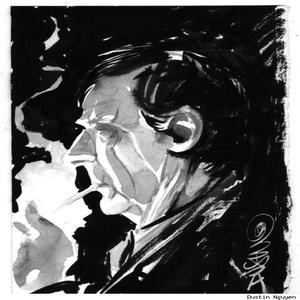cigarette: (50, 181, 102, 214)
